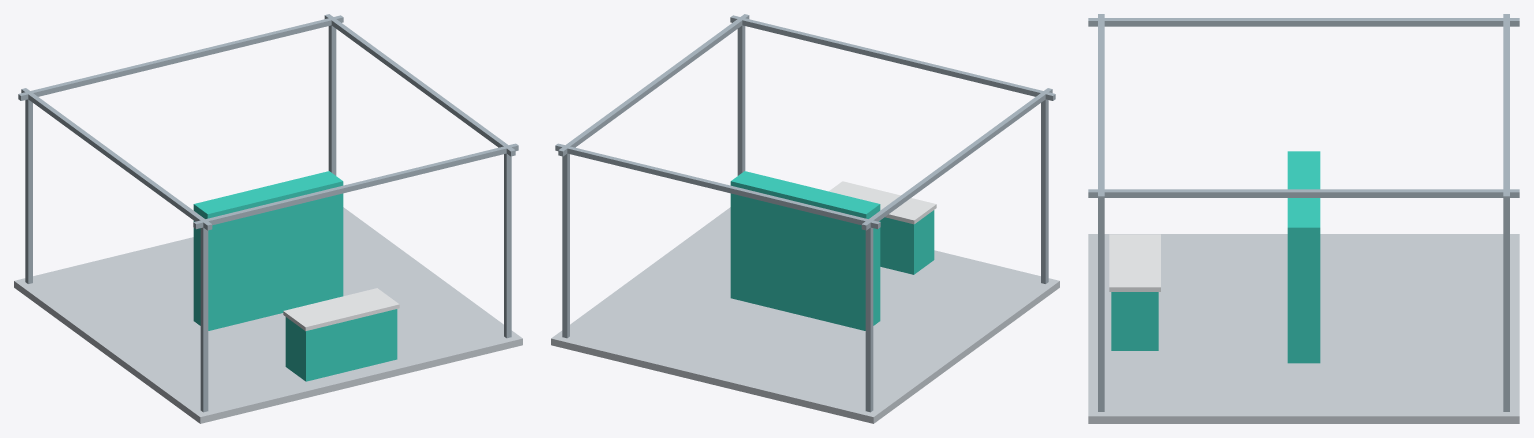
The picture shows the model from 3 angles, left to right: view 1: azimuth 30°, elevation 25°; view 2: azimuth 150°, elevation 25°; view 3: azimuth 270°, elevation 25°; orthographic projection. The views are drawn at different scales.
Visible parts, largest first — view 1: Exhibition Booth Concept; view 2: Exhibition Booth Concept; view 3: Exhibition Booth Concept.
Part boxes in pixels (x1,y1,x2,y2): Exhibition Booth Concept: (14,14,522,423); Exhibition Booth Concept: (551,14,1059,423); Exhibition Booth Concept: (1088,14,1519,423).
Size of the model in its own units: 6 by 3.49 by 6.
